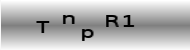1: (121, 13, 134, 28)
R: (104, 14, 119, 28)
T: (33, 19, 49, 34)
n: (61, 13, 75, 25)
p: (80, 28, 94, 43)
